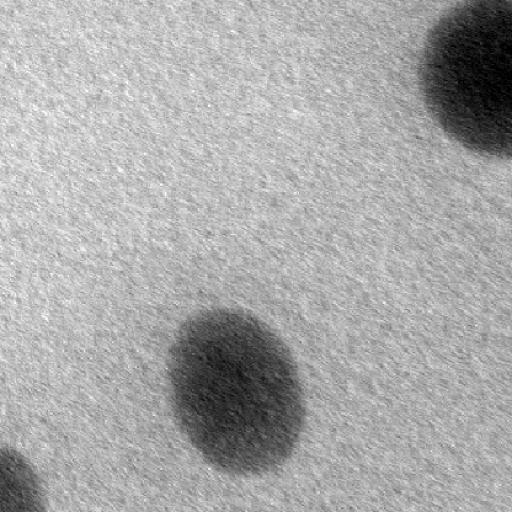Nanoparticles: (166, 302, 309, 480), (419, 1, 512, 163), (0, 437, 50, 512)
